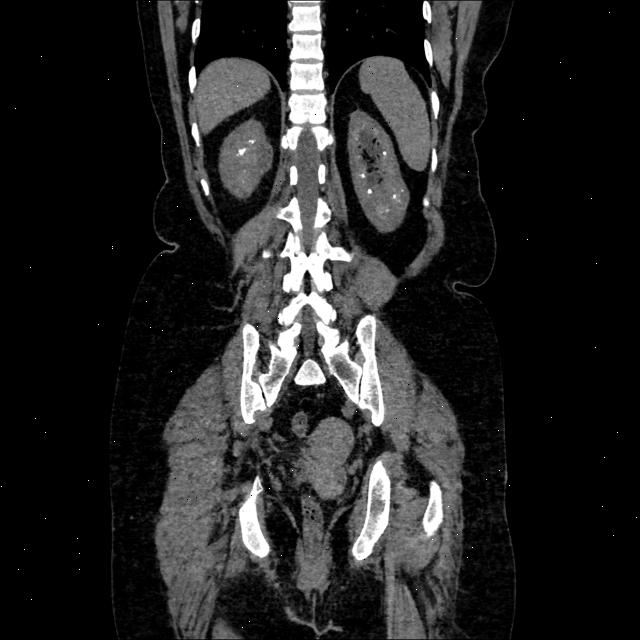kidneystone: (360, 168, 365, 179), (239, 148, 246, 155), (391, 194, 396, 200), (382, 151, 387, 156), (368, 188, 372, 194)
